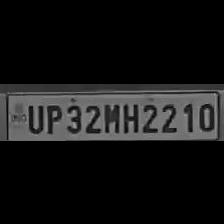0: (194, 99, 216, 131)
1: (178, 100, 195, 132)
2: (82, 100, 102, 132), (138, 100, 158, 132), (158, 100, 178, 132)
3: (62, 100, 82, 134)
H: (119, 100, 138, 132)
M: (102, 100, 120, 132)
P: (43, 100, 62, 134)
U: (23, 100, 43, 132)
